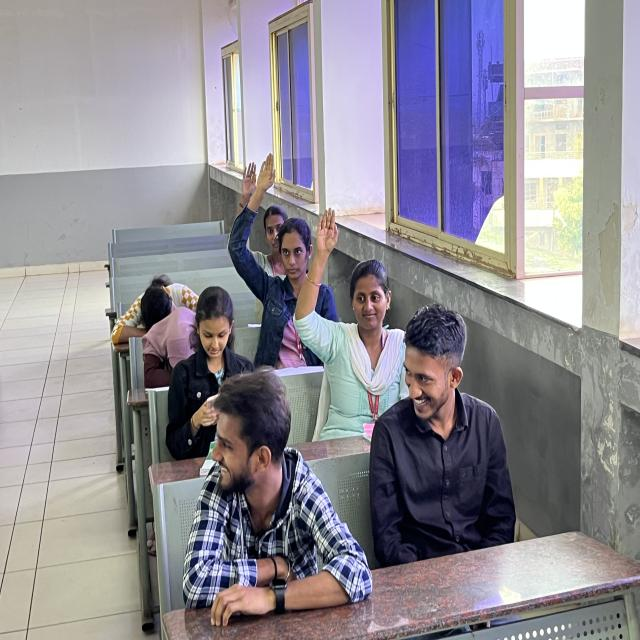Hand Rising: (294, 196, 403, 424), (227, 141, 312, 366), (217, 145, 295, 306)
Sleeping: (125, 302, 225, 402), (102, 262, 210, 344)
Using Phone: (173, 278, 270, 449)
